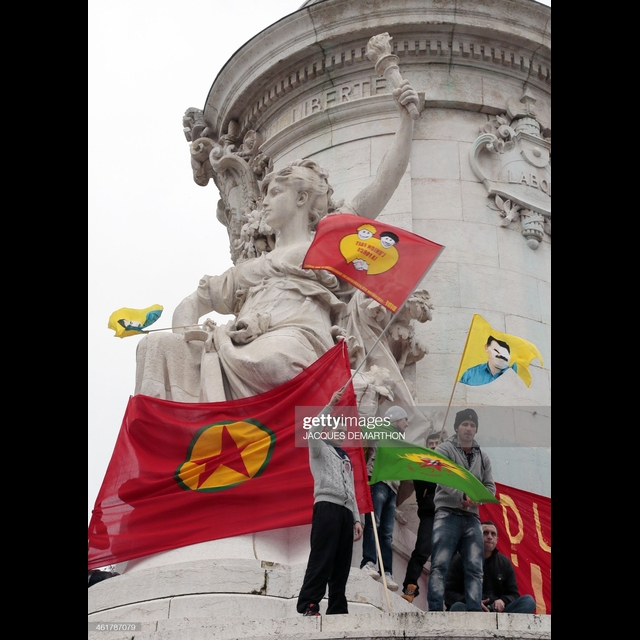APO: (479, 334, 515, 371)
PKK: (175, 419, 280, 493)
